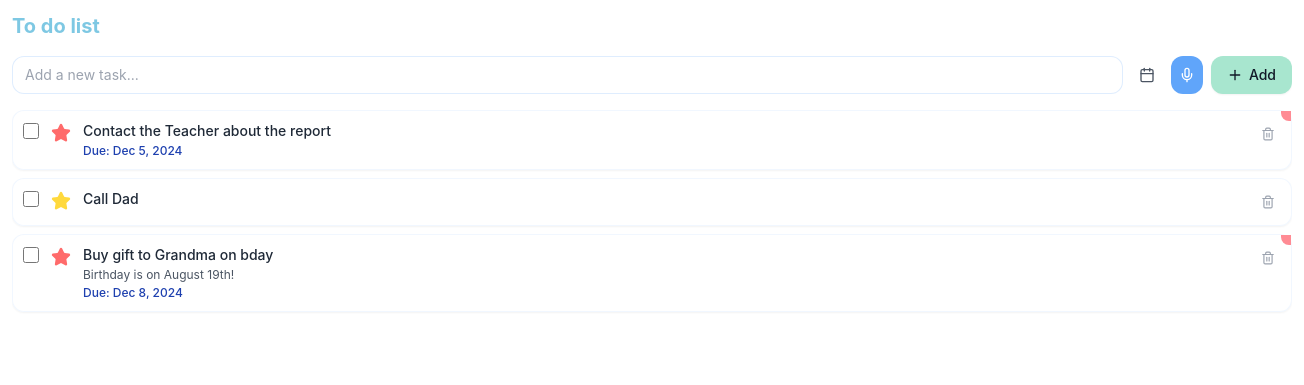
Test: TodoList Component › should hide date picker when clicking calendar button again
# Show date picker
Click the button titled "Add due date": (1147,75) x1=1131 y1=56 x2=1163 y2=94
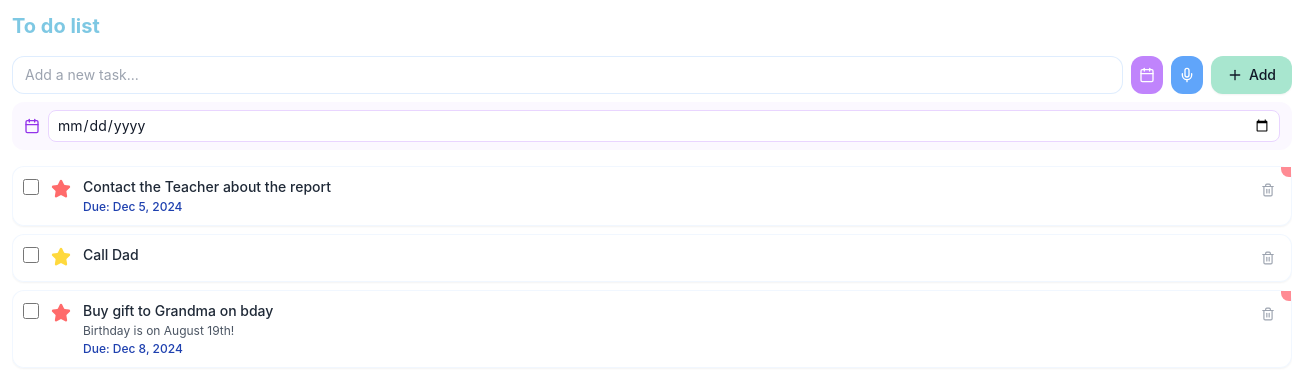
Result: the date field is shown at x1=48 y1=110 x2=1280 y2=142
# Hide date picker
Click the button titled "Add due date": (1147,75) x1=1131 y1=56 x2=1163 y2=94
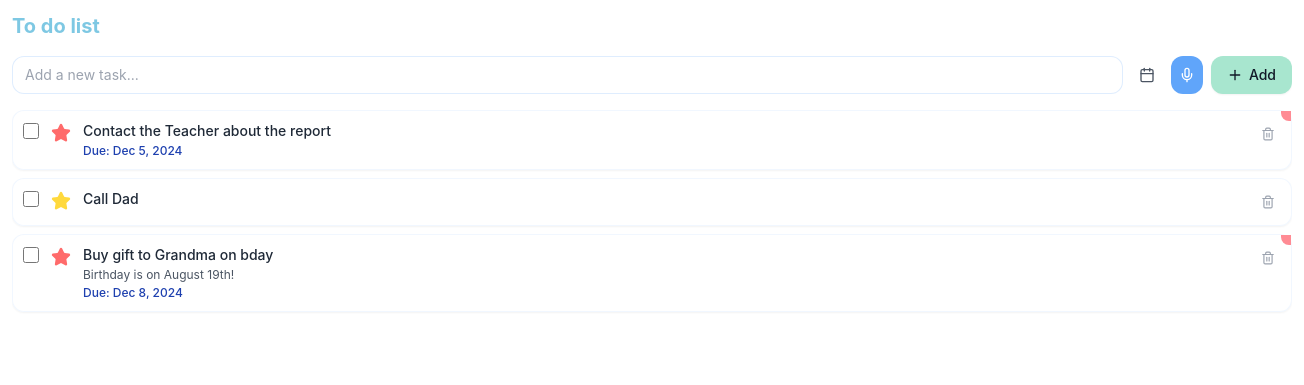
Result: the date field is gone
